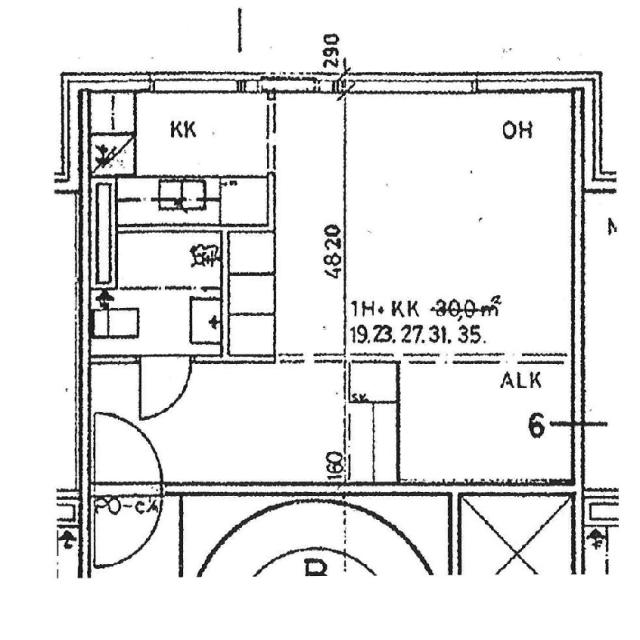door: (92, 487, 164, 570), (93, 407, 160, 489), (134, 355, 197, 423)
window: (342, 75, 476, 91), (151, 74, 244, 92)
zone: (81, 89, 344, 360), (343, 88, 582, 364), (92, 354, 346, 490), (341, 358, 576, 492)
